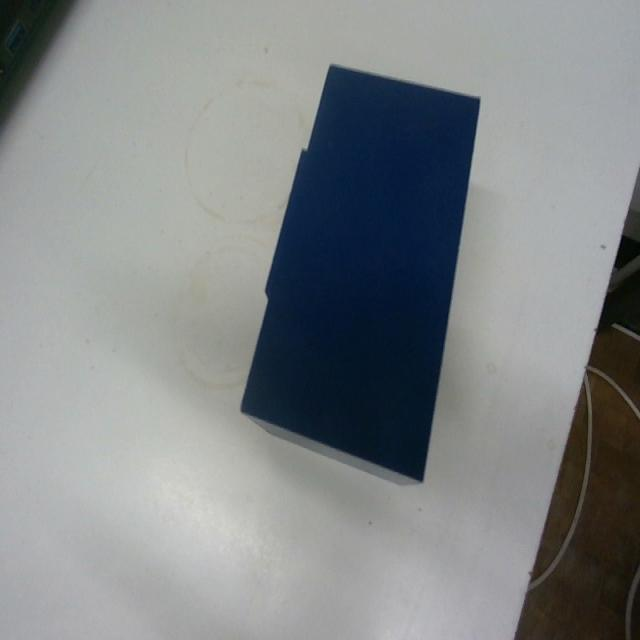Blue Cuboid: (238, 60, 481, 485)
